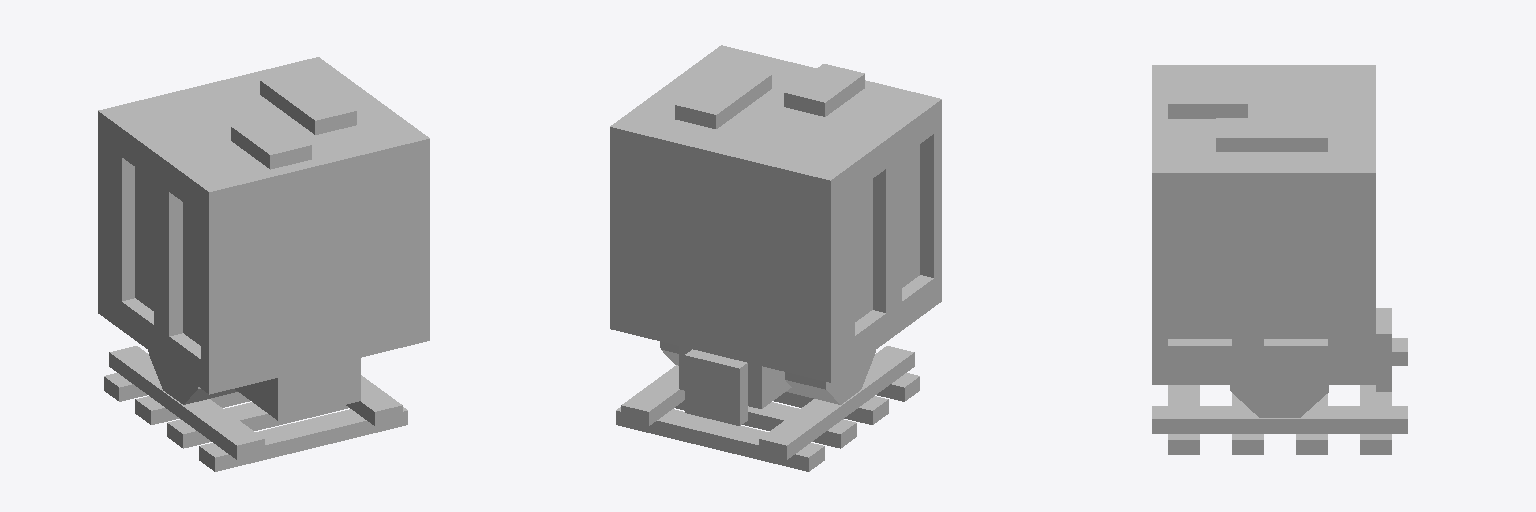
File: sm_mapnodes_wagon1.obj
3 views of the same model, side by side, from view 1: azimuth 30°, elevation 25°; view 2: azimuth 150°, elevation 25°; view 3: azimuth 270°, elevation 25° (orthographic).
Visible parts, largest first — view 1: Wagon1; view 2: Wagon1; view 3: Wagon1.
Boxes of the visible parts, <box> form: Wagon1: <box>98,57,429,471</box>; Wagon1: <box>610,45,941,471</box>; Wagon1: <box>1152,65,1407,454</box>.
Size of the model in its own units: 1 by 1.31 by 1.